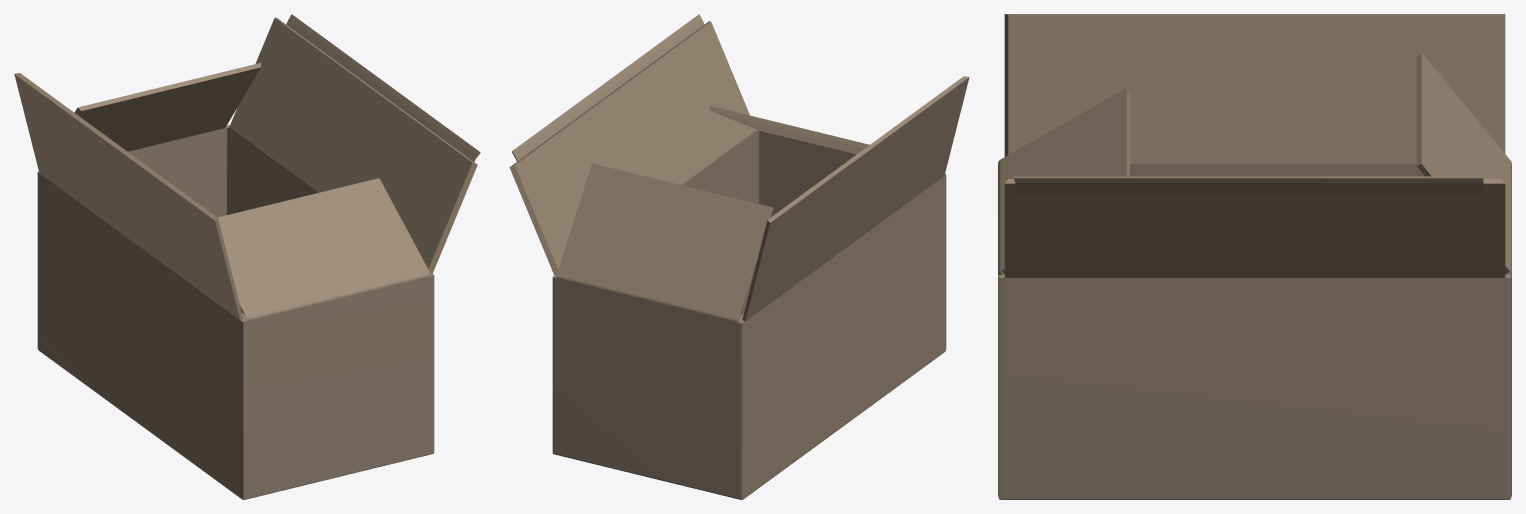
3 renders of one model, left to right at view 1: azimuth 30°, elevation 25°; view 2: azimuth 150°, elevation 25°; view 3: azimuth 270°, elevation 25°, orthographic. The views are drawn at different scales.
Parts seen in each view (by area): view 1: Box04; view 2: Box04; view 3: Box04.
Part boxes in pixels (<box>): Box04: <box>14,14,480,499</box>; Box04: <box>509,14,969,499</box>; Box04: <box>998,14,1511,499</box>.
Size of the model in its own units: 0.4495 by 0.456 by 0.5961.
